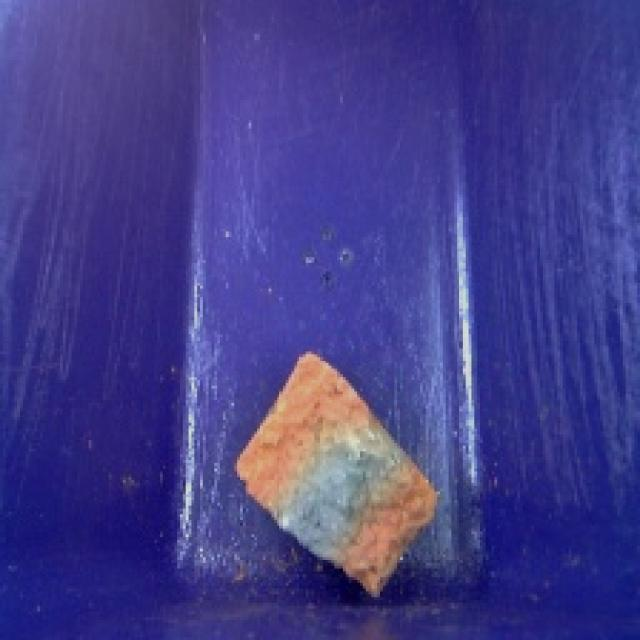brick: (225, 343, 448, 608)
